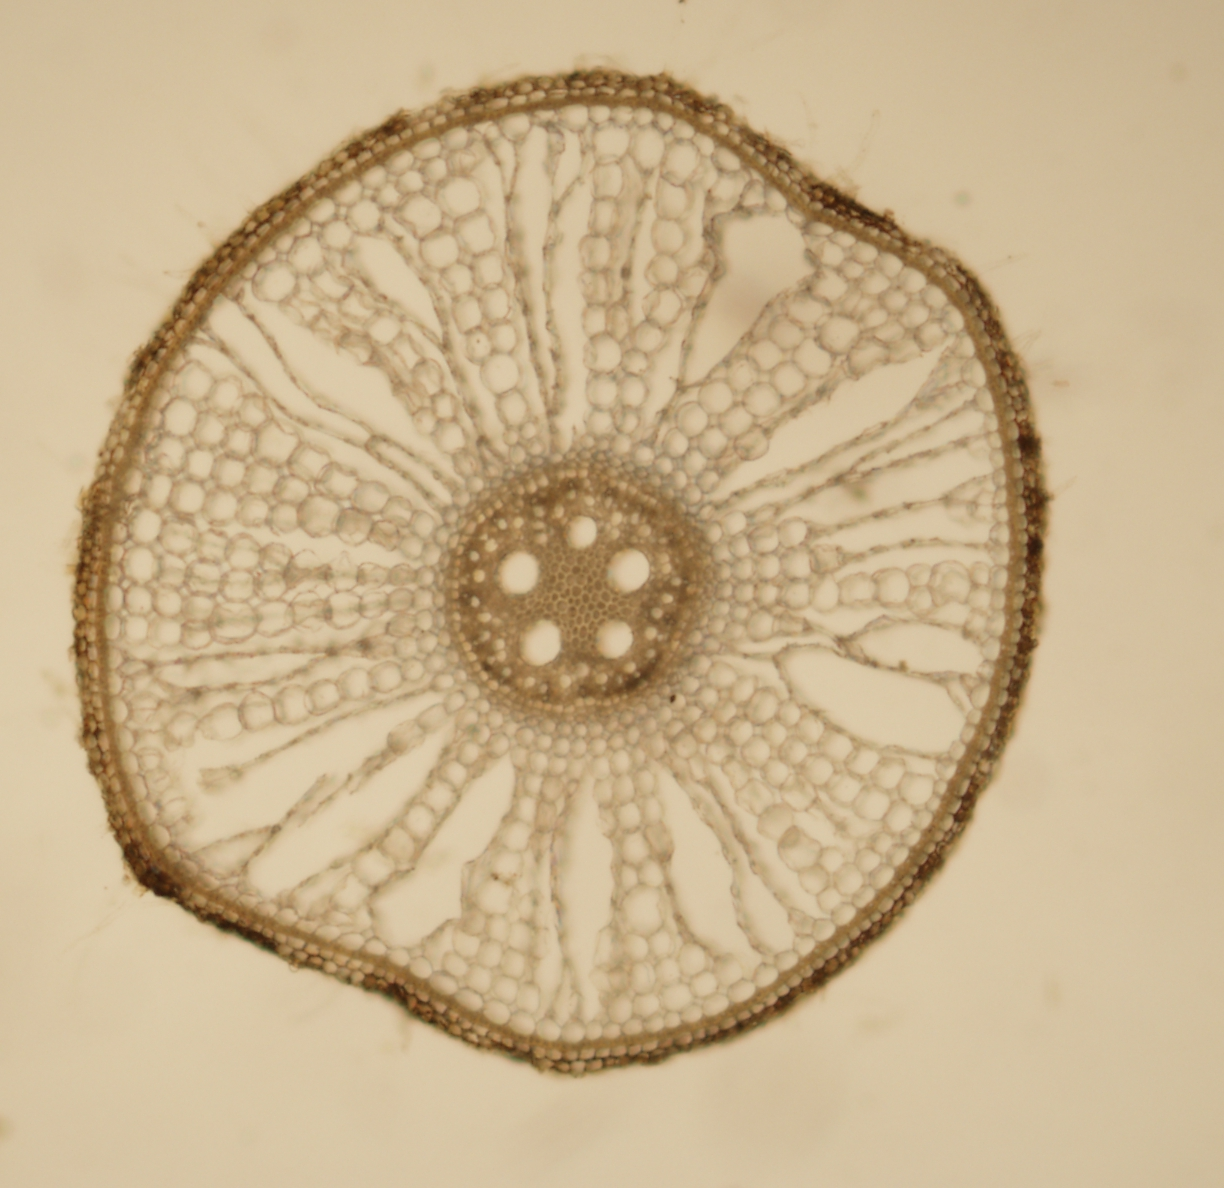lm: (607, 546, 650, 593), (519, 619, 561, 667), (497, 550, 540, 595), (595, 619, 633, 658), (565, 515, 597, 549)
